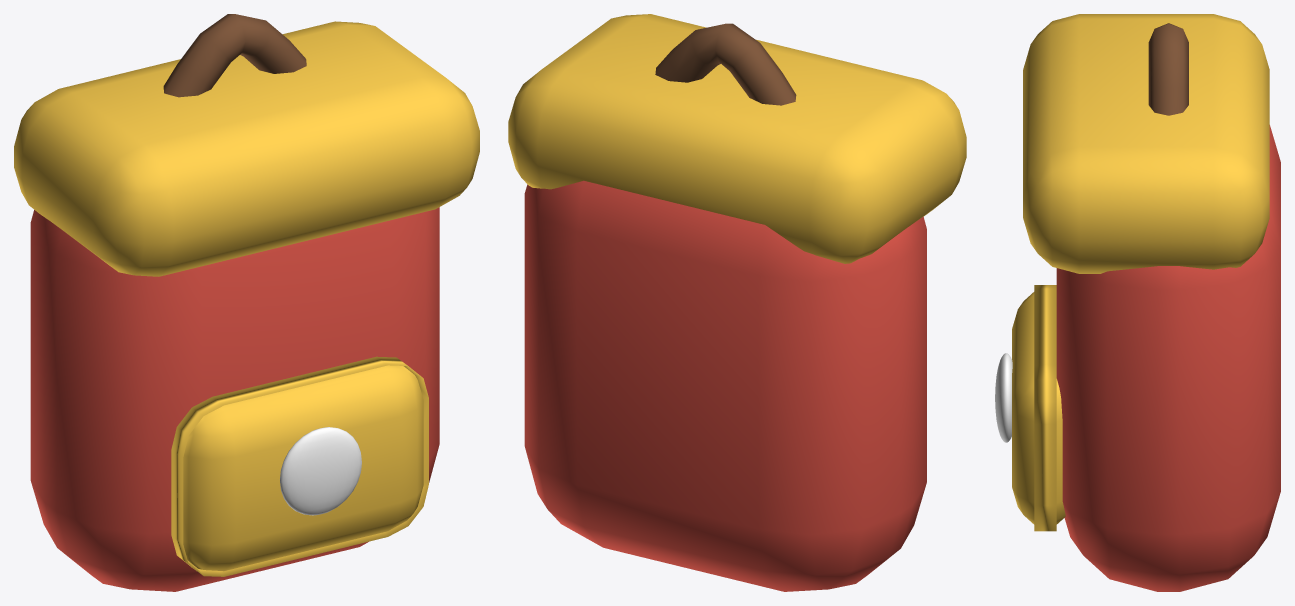
The model's file is icon_backpack.glb.
3 views of the same model, side by side, from view 1: azimuth 30°, elevation 25°; view 2: azimuth 150°, elevation 25°; view 3: azimuth 270°, elevation 25° (orthographic). The views are drawn at different scales.
Visible parts, largest first — view 1: icon_backpack; view 2: icon_backpack; view 3: icon_backpack.
Boxes of the visible parts, x1,y1,x2,y2 form: icon_backpack: [14, 14, 479, 591]; icon_backpack: [508, 14, 966, 591]; icon_backpack: [995, 14, 1280, 591].
Size of the model in its own units: 0.37 by 0.508 by 0.255.
